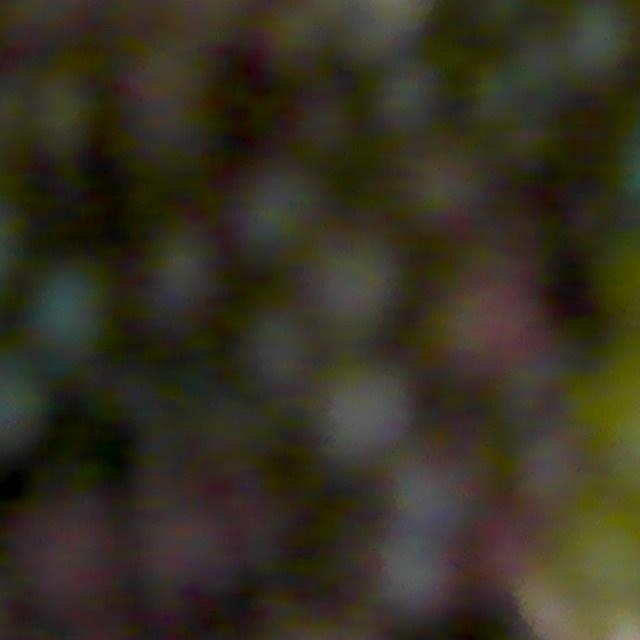SeaGrape: (112, 488, 254, 618), (32, 505, 135, 632), (315, 360, 417, 459), (307, 235, 404, 331), (368, 533, 462, 624), (236, 160, 325, 252), (27, 262, 112, 355), (404, 146, 489, 229), (145, 234, 225, 318), (557, 0, 639, 81), (240, 310, 315, 386)
